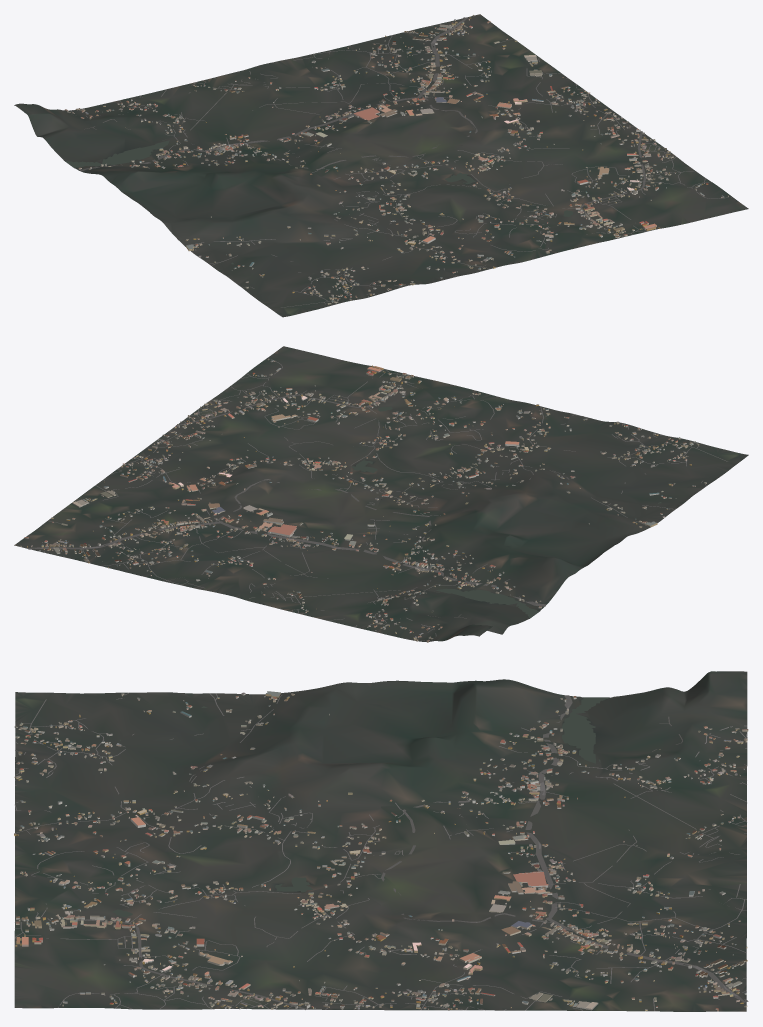
3 renders of one model, top to bottom at view 1: azimuth 30°, elevation 25°; view 2: azimuth 150°, elevation 25°; view 3: azimuth 270°, elevation 25°, orthographic. The views are drawn at different scales.
Parts seen in each view (by area): view 1: ground, buildings, roads, water; view 2: ground, buildings, roads, water; view 3: ground, buildings, roads, water.
Part boxes in pixels (box(x1,y1,x2,y2)): ground: box(14, 14, 748, 317); buildings: box(65, 15, 728, 304); roads: box(62, 17, 731, 307); water: box(65, 139, 573, 273); ground: box(14, 346, 748, 641); buildings: box(20, 359, 706, 642); roads: box(28, 357, 727, 641); water: box(352, 406, 661, 618); ground: box(14, 671, 747, 1011); buildings: box(14, 691, 748, 1011); roads: box(15, 692, 748, 1011); water: box(112, 697, 609, 916).
Size of the model in its own units: 2815 by 139 by 2815.
